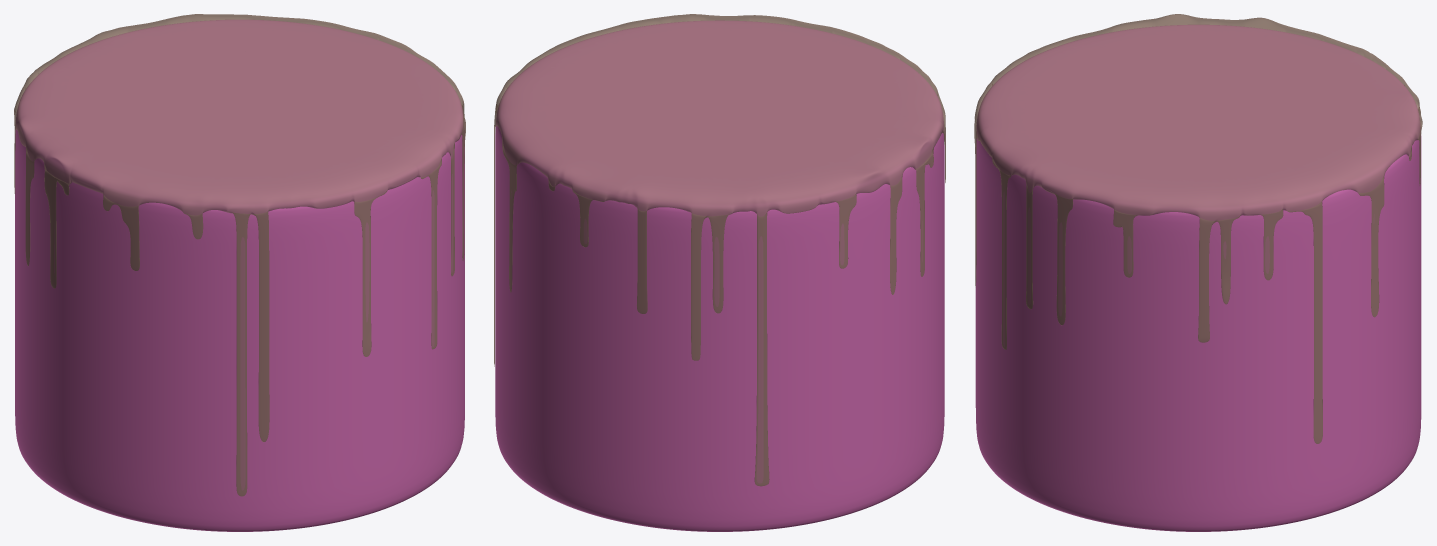
Rendered from Cake_Layer_1_Pink_BrownDrip.glb.
3 renders of one model, left to right at view 1: azimuth 30°, elevation 25°; view 2: azimuth 150°, elevation 25°; view 3: azimuth 270°, elevation 25°, orthographic.
Visible parts, largest first — view 1: Circle, Circle.001; view 2: Circle, Circle.001; view 3: Circle, Circle.001.
Boxes of the visible parts, x1,y1,x2,y2 form: Circle: (15, 20, 464, 531); Circle.001: (14, 14, 465, 496); Circle: (495, 20, 944, 531); Circle.001: (494, 14, 945, 486); Circle: (975, 25, 1421, 531); Circle.001: (974, 14, 1422, 443).
Size of the model in its own units: 0.1501 by 0.1237 by 0.1499.
